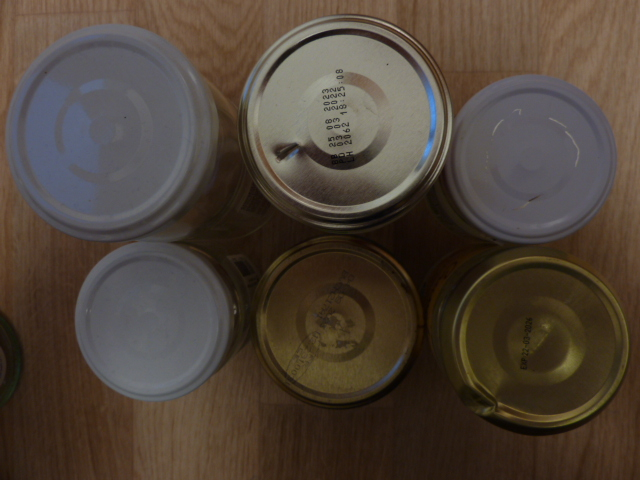damaged: (236, 12, 453, 228), (449, 252, 632, 435), (444, 73, 617, 246)
intact: (7, 32, 219, 239), (254, 237, 421, 406), (70, 242, 237, 404)
